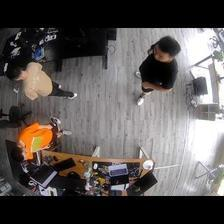normal: (7, 60, 78, 102), (138, 36, 180, 102), (12, 117, 72, 161)
